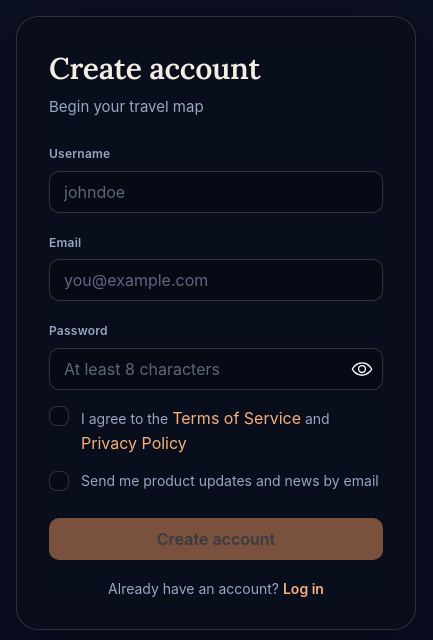
Test: SignUpPage › кнопка отправки заблокирована, пока не заполнены поля и не приняты условия
The width and height of the screenshot is (433, 640).
Expected: the button "Create account" is disabled, [49,518,383,560]
Type "alice" into the field labelled "Username".
click(216, 192); type("alice")  # box [49,171,383,213]
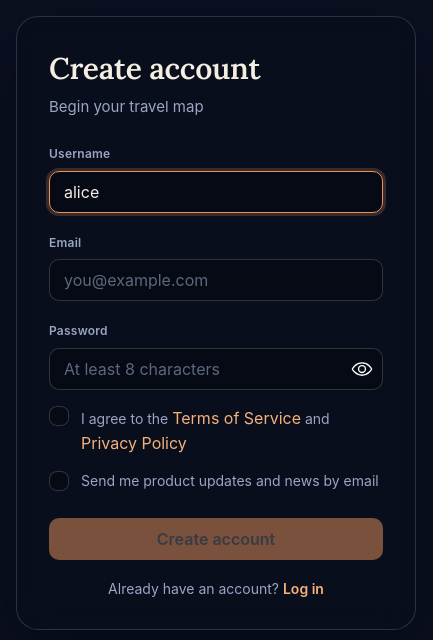
Type "alice@example.com" into the field labelled "Email".
click(216, 280); type("alice@example.com")  # box [49,259,383,301]
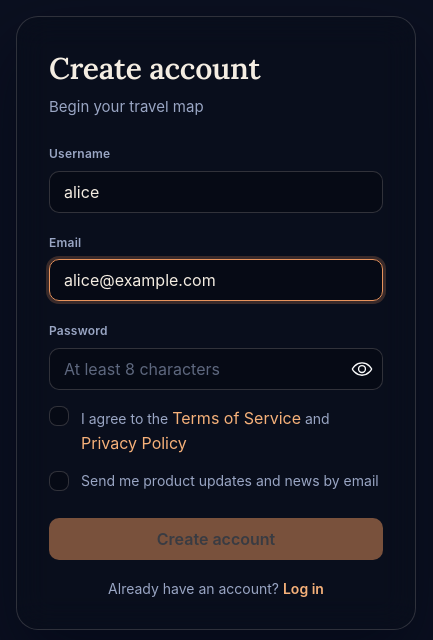
Type "s3cret-pass" into the password field labelled "Password".
click(216, 369); type("s3cret-pass")  # box [50,349,382,389]
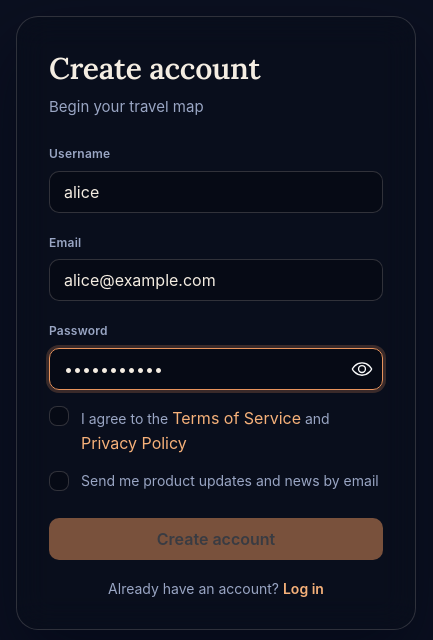
Expected: the button "Create account" is disabled, [49,518,383,560]
Click the checkbox labelled "I agree to the Terms of Service and Privacy Policy".
click(59, 416)  # box [49,406,69,426]
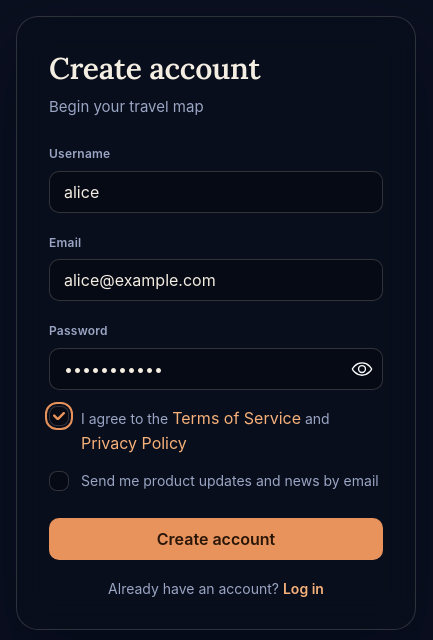
Now the button "Create account" is enabled, box [49,518,383,560]
